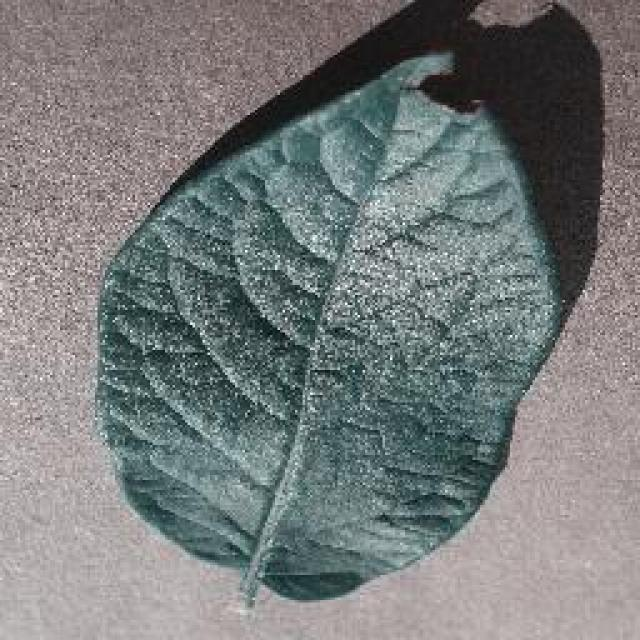Potato___healthy: (93, 49, 566, 617)
